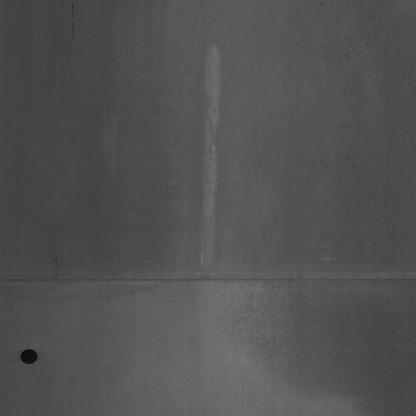punching_hole: (18, 344, 40, 370)
welding_line: (2, 263, 415, 299)
